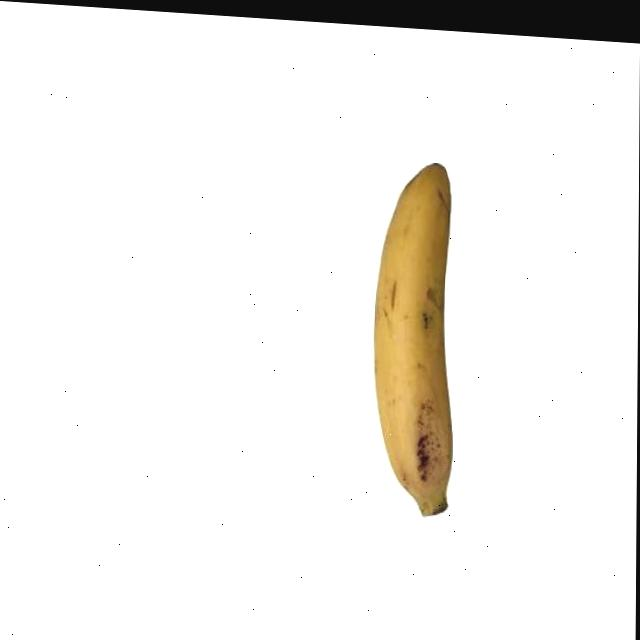banana: (364, 154, 465, 523)
